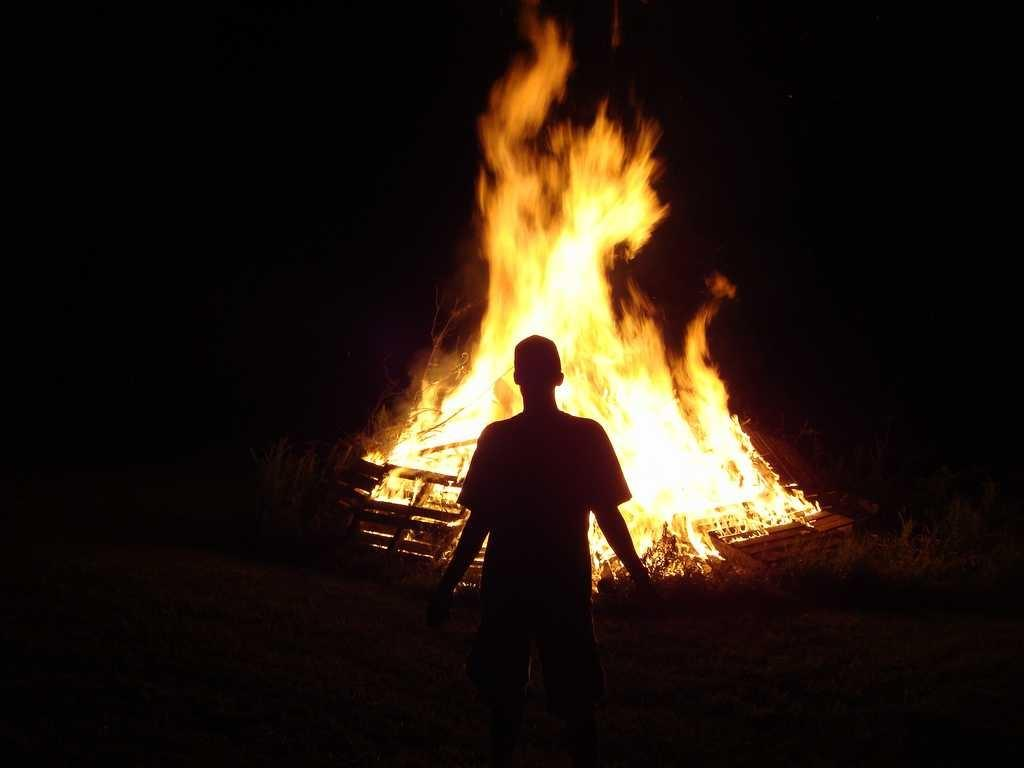fire: (496, 122, 636, 342), (618, 354, 774, 528), (402, 366, 484, 456)
